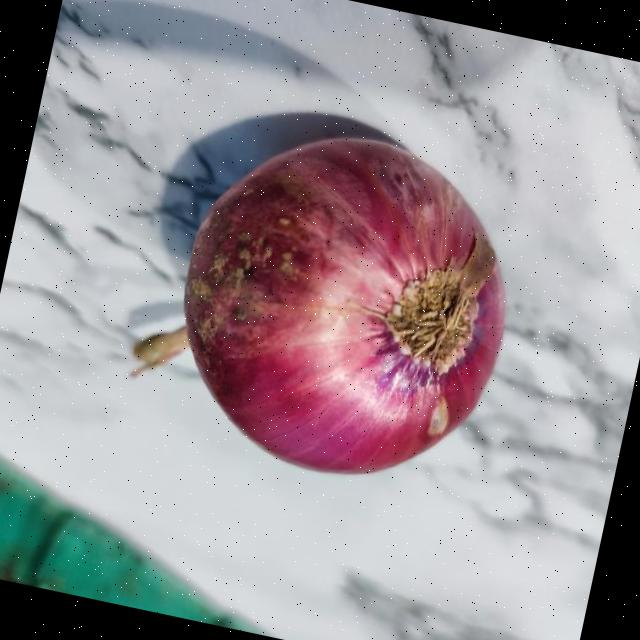Onion: (130, 135, 503, 472)
